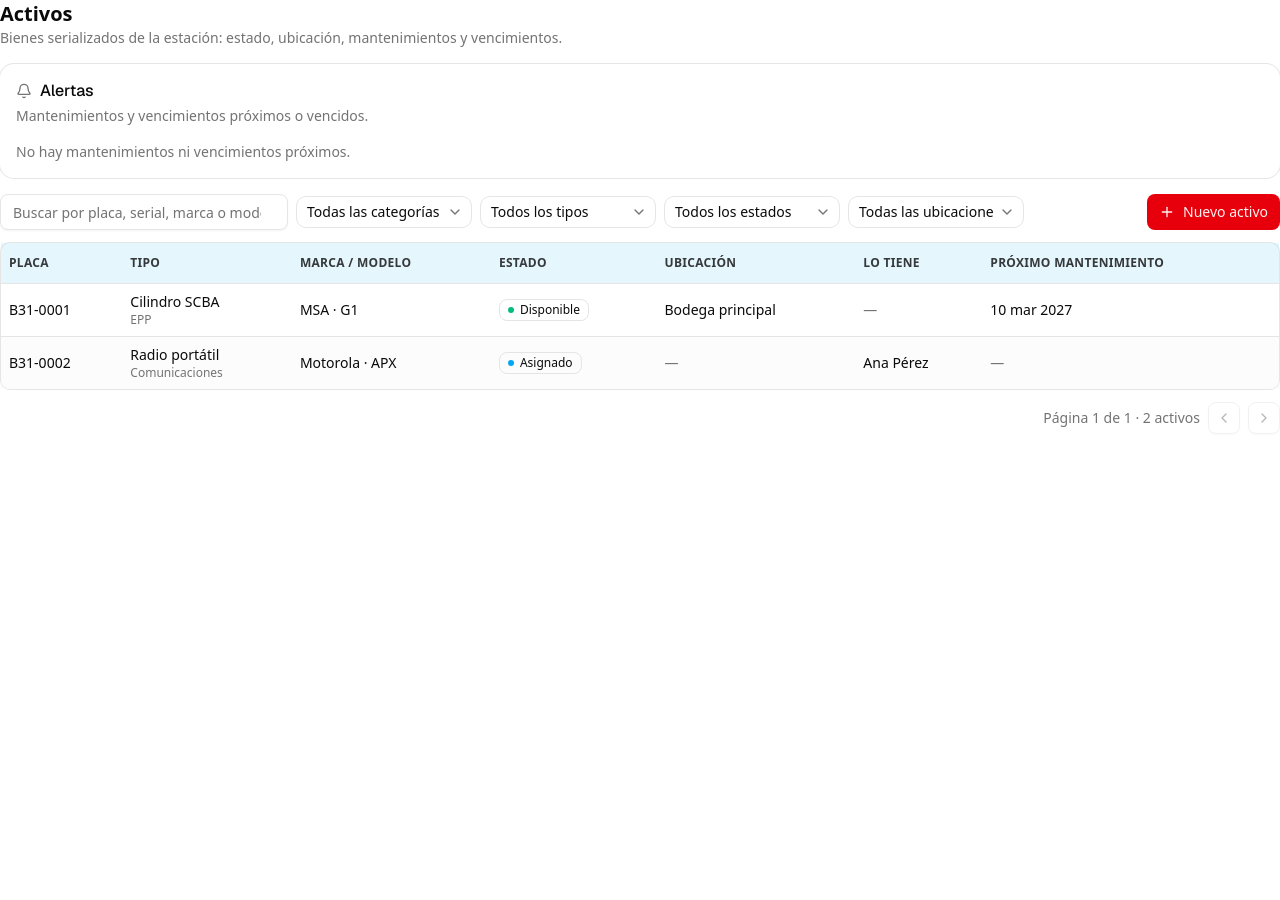
Scenario: ActivosScreen (/activos, 005 US1, US5, FR-007) › abre el formulario de nuevo activo
Expected: the row "B31-0001" is shown, [1,283,1279,336]
Click the button "Nuevo activo" at [1214, 212], box [1147,194,1279,230]
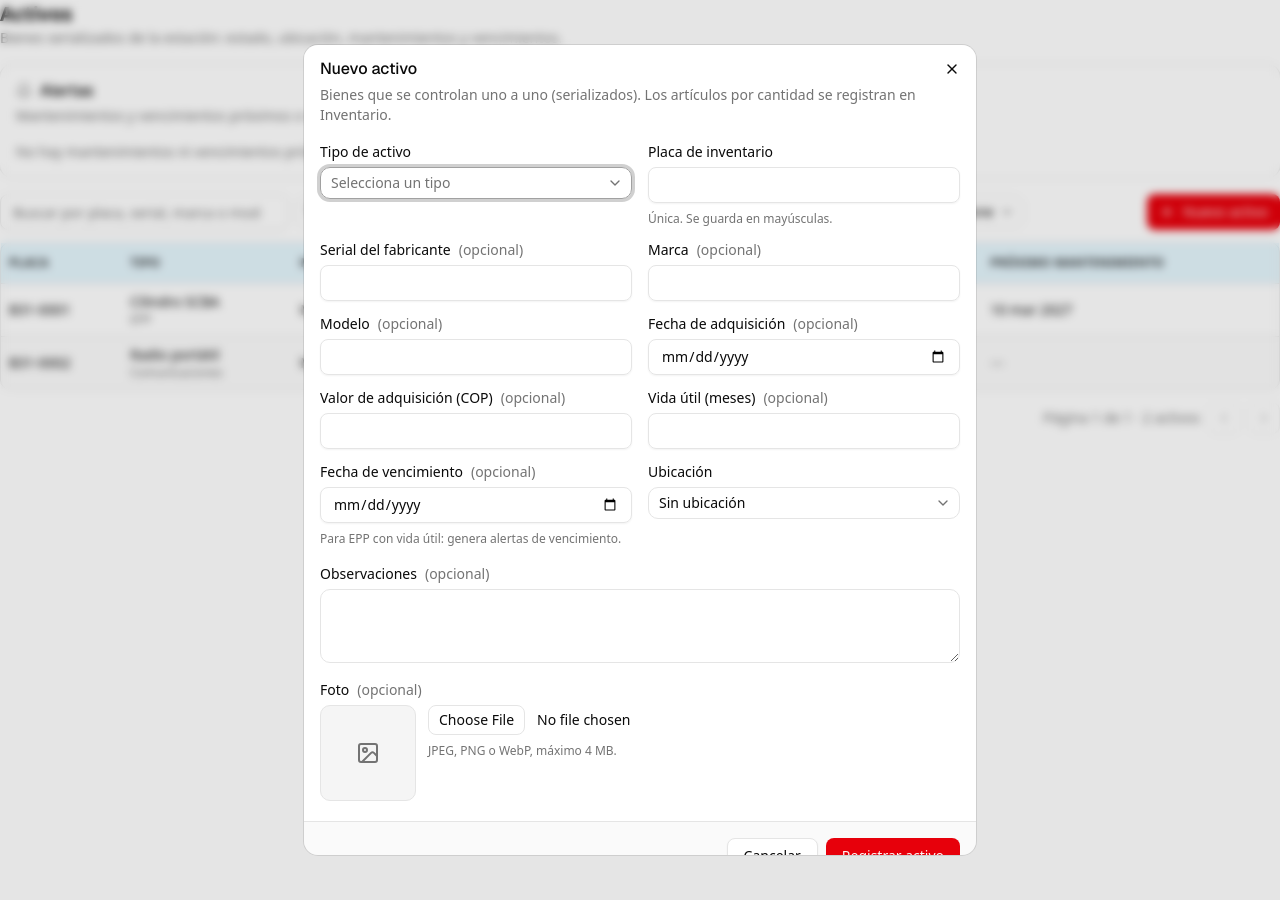
Result: the dialog "Nuevo activo" is shown at [304,45,976,855]
